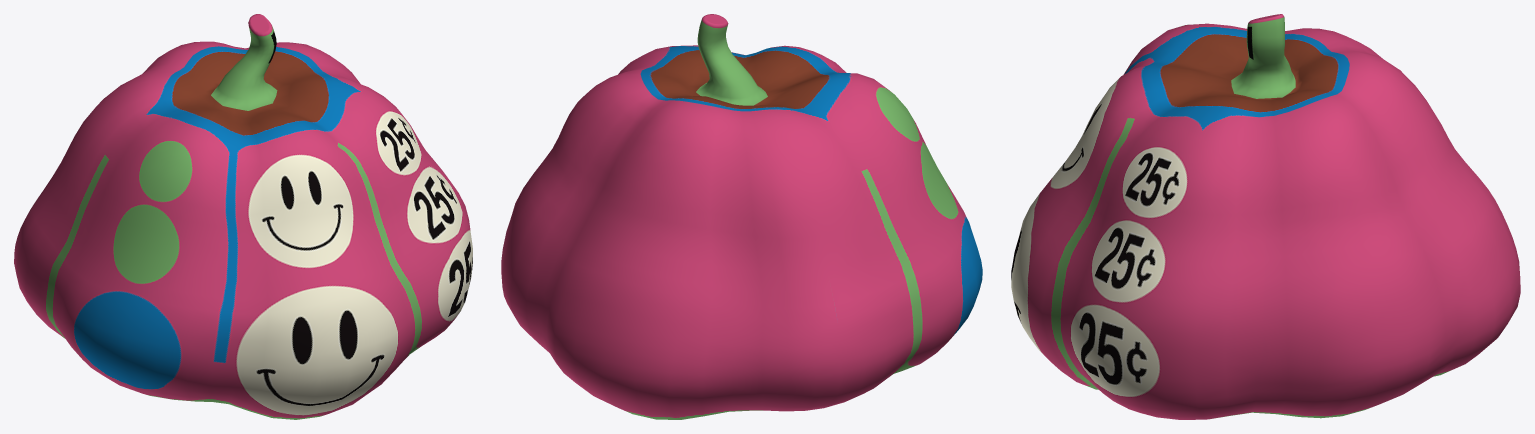
The model's file is 275C_LinearSpin.fbx.
3 views of the same model, side by side, from view 1: azimuth 30°, elevation 25°; view 2: azimuth 150°, elevation 25°; view 3: azimuth 270°, elevation 25° (orthographic). The views are drawn at different scales.
Visible parts, largest first — view 1: Pumpkin275C_04_Motion; view 2: Pumpkin275C_04_Motion; view 3: Pumpkin275C_04_Motion.
Part boxes in pixels (x1,y1,x2,y2): Pumpkin275C_04_Motion: (14,14,472,419); Pumpkin275C_04_Motion: (501,14,982,419); Pumpkin275C_04_Motion: (1011,14,1520,419).
Bounding box in the file's own units: 23.31 × 19.87 × 24.28.
Materials: 1 (1 with a texture image).
